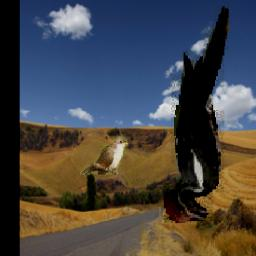Cuckoo: (80, 136, 128, 175)
Woodpecker: (164, 7, 229, 224)
